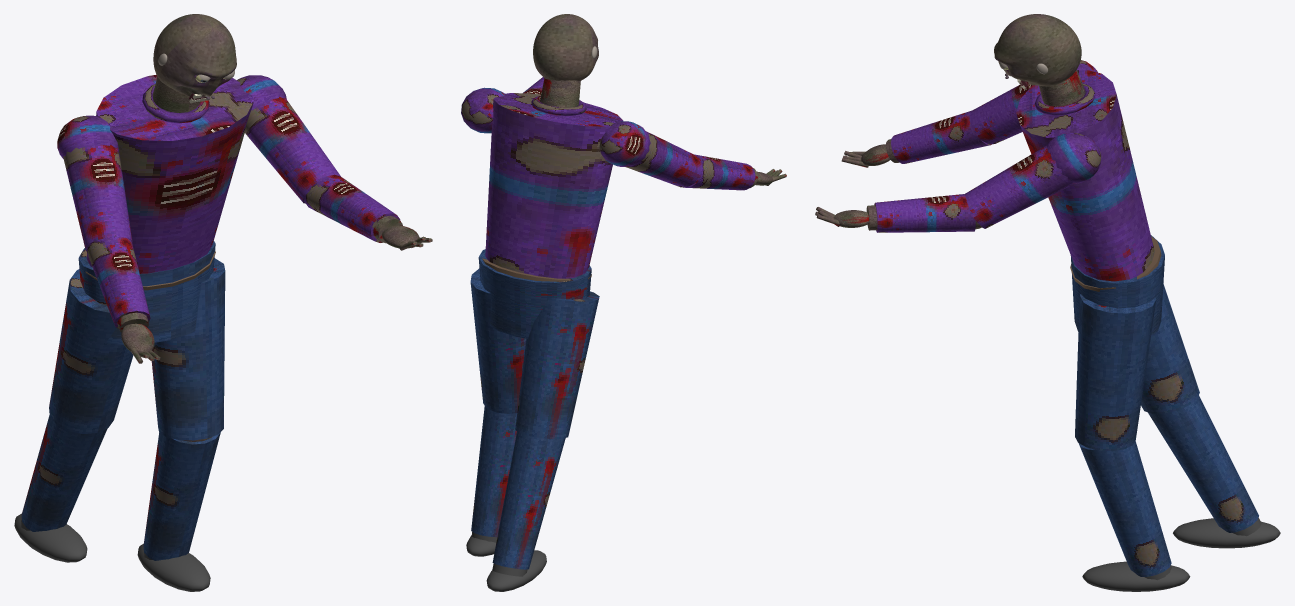
File: Zombie_098.glb
3 views of the same model, side by side, from view 1: azimuth 30°, elevation 25°; view 2: azimuth 150°, elevation 25°; view 3: azimuth 270°, elevation 25° (orthographic). The views are drawn at different scales.
Parts seen in each view (by area): view 1: Zombie_098, object 18, object 4, object 12, object 5, object 13; view 2: Zombie_098, object 18, object 4; view 3: Zombie_098, object 18, object 12, object 4.
Boxes of the visible parts, x1=… form: Zombie_098: x1=14, y1=74, x2=340, y2=591; object 18: x1=153, y1=14, x2=236, y2=97; object 4: x1=85, y1=237, x2=150, y2=328; object 12: x1=304, y1=174, x2=400, y2=242; object 5: x1=121, y1=323, x2=154, y2=352; object 13: x1=382, y1=225, x2=419, y2=248; Zombie_098: x1=461, y1=78, x2=702, y2=591; object 18: x1=533, y1=14, x2=598, y2=80; object 4: x1=683, y1=154, x2=755, y2=190; Zombie_098: x1=965, y1=60, x2=1280, y2=591; object 18: x1=994, y1=14, x2=1081, y2=86; object 12: x1=874, y1=194, x2=975, y2=232; object 4: x1=891, y1=110, x2=991, y2=163.
Bounding box in the file's own units: 0.8193 × 1.7 × 1.28.
Materials: 15 (5 with a texture image).
